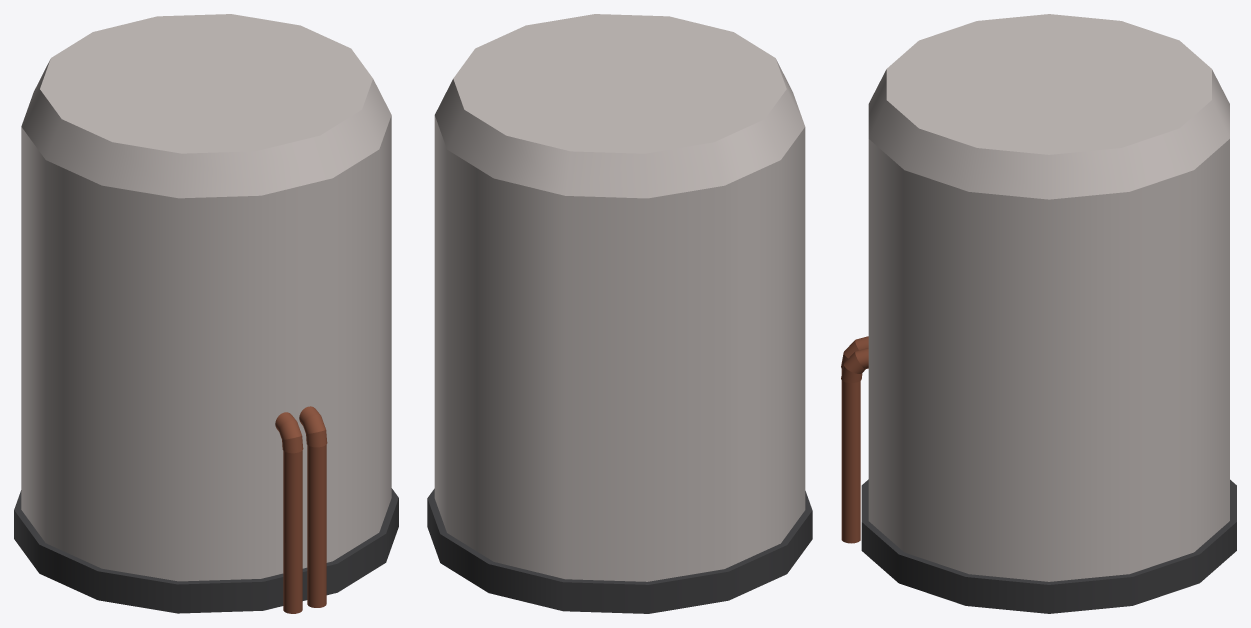
Rendered from VatContainerSmall.fbx.
The picture shows the model from 3 angles, left to right: view 1: azimuth 30°, elevation 25°; view 2: azimuth 150°, elevation 25°; view 3: azimuth 270°, elevation 25°; orthographic projection.
Visible parts, largest first — view 1: VatContainerSmall:pCylinder1, VatContainerSmall:pCylinder2, VatContainerSmall:pCylinder5, VatContainerSmall:pTorus3, VatContainerSmall:pTorus1; view 2: VatContainerSmall:pCylinder1; view 3: VatContainerSmall:pCylinder1, VatContainerSmall:pCylinder5, VatContainerSmall:pTorus3.
Boxes of the visible parts, bbox=[...] form: VatContainerSmall:pCylinder1: bbox=[14, 14, 398, 613]; VatContainerSmall:pCylinder2: bbox=[283, 450, 302, 613]; VatContainerSmall:pCylinder5: bbox=[307, 445, 326, 607]; VatContainerSmall:pTorus3: bbox=[299, 406, 327, 447]; VatContainerSmall:pTorus1: bbox=[275, 412, 303, 453]; VatContainerSmall:pCylinder1: bbox=[427, 14, 812, 613]; VatContainerSmall:pCylinder1: bbox=[861, 14, 1236, 613]; VatContainerSmall:pCylinder5: bbox=[841, 380, 860, 543]; VatContainerSmall:pTorus3: bbox=[841, 348, 868, 382].
Size of the model in its own units: 5.43 by 7 by 5.59.
